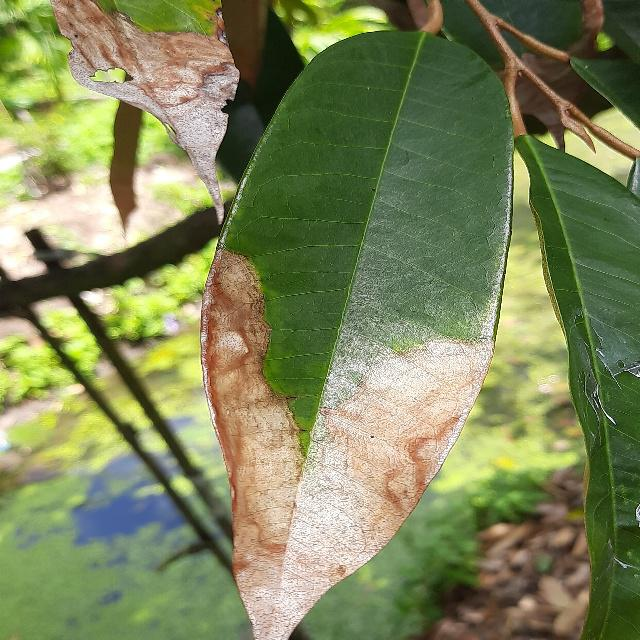Leaf Blight: (195, 19, 524, 639)
